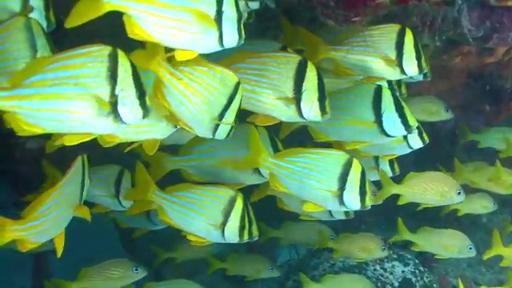Fish: (0, 44, 150, 144), (126, 162, 258, 244), (64, 0, 246, 59), (131, 44, 242, 139), (282, 18, 431, 81), (0, 155, 90, 257), (280, 84, 418, 147), (220, 52, 330, 125), (145, 124, 267, 187), (262, 148, 371, 211), (97, 96, 178, 155), (97, 97, 179, 155), (251, 183, 354, 220), (0, 16, 51, 85), (390, 218, 475, 258), (333, 124, 429, 159), (375, 172, 464, 208), (46, 259, 147, 287), (269, 191, 354, 220), (86, 164, 132, 212), (450, 160, 511, 195), (319, 232, 389, 261), (259, 221, 335, 247), (204, 39, 289, 62), (207, 254, 279, 280), (0, 0, 55, 31), (106, 211, 168, 238), (151, 241, 214, 267), (441, 192, 498, 215), (404, 96, 454, 122), (460, 126, 511, 151), (355, 153, 399, 180), (483, 229, 511, 267), (319, 68, 363, 92), (300, 273, 375, 287), (256, 127, 283, 155), (160, 128, 195, 145), (144, 279, 203, 287), (25, 241, 55, 253), (499, 138, 511, 158)
